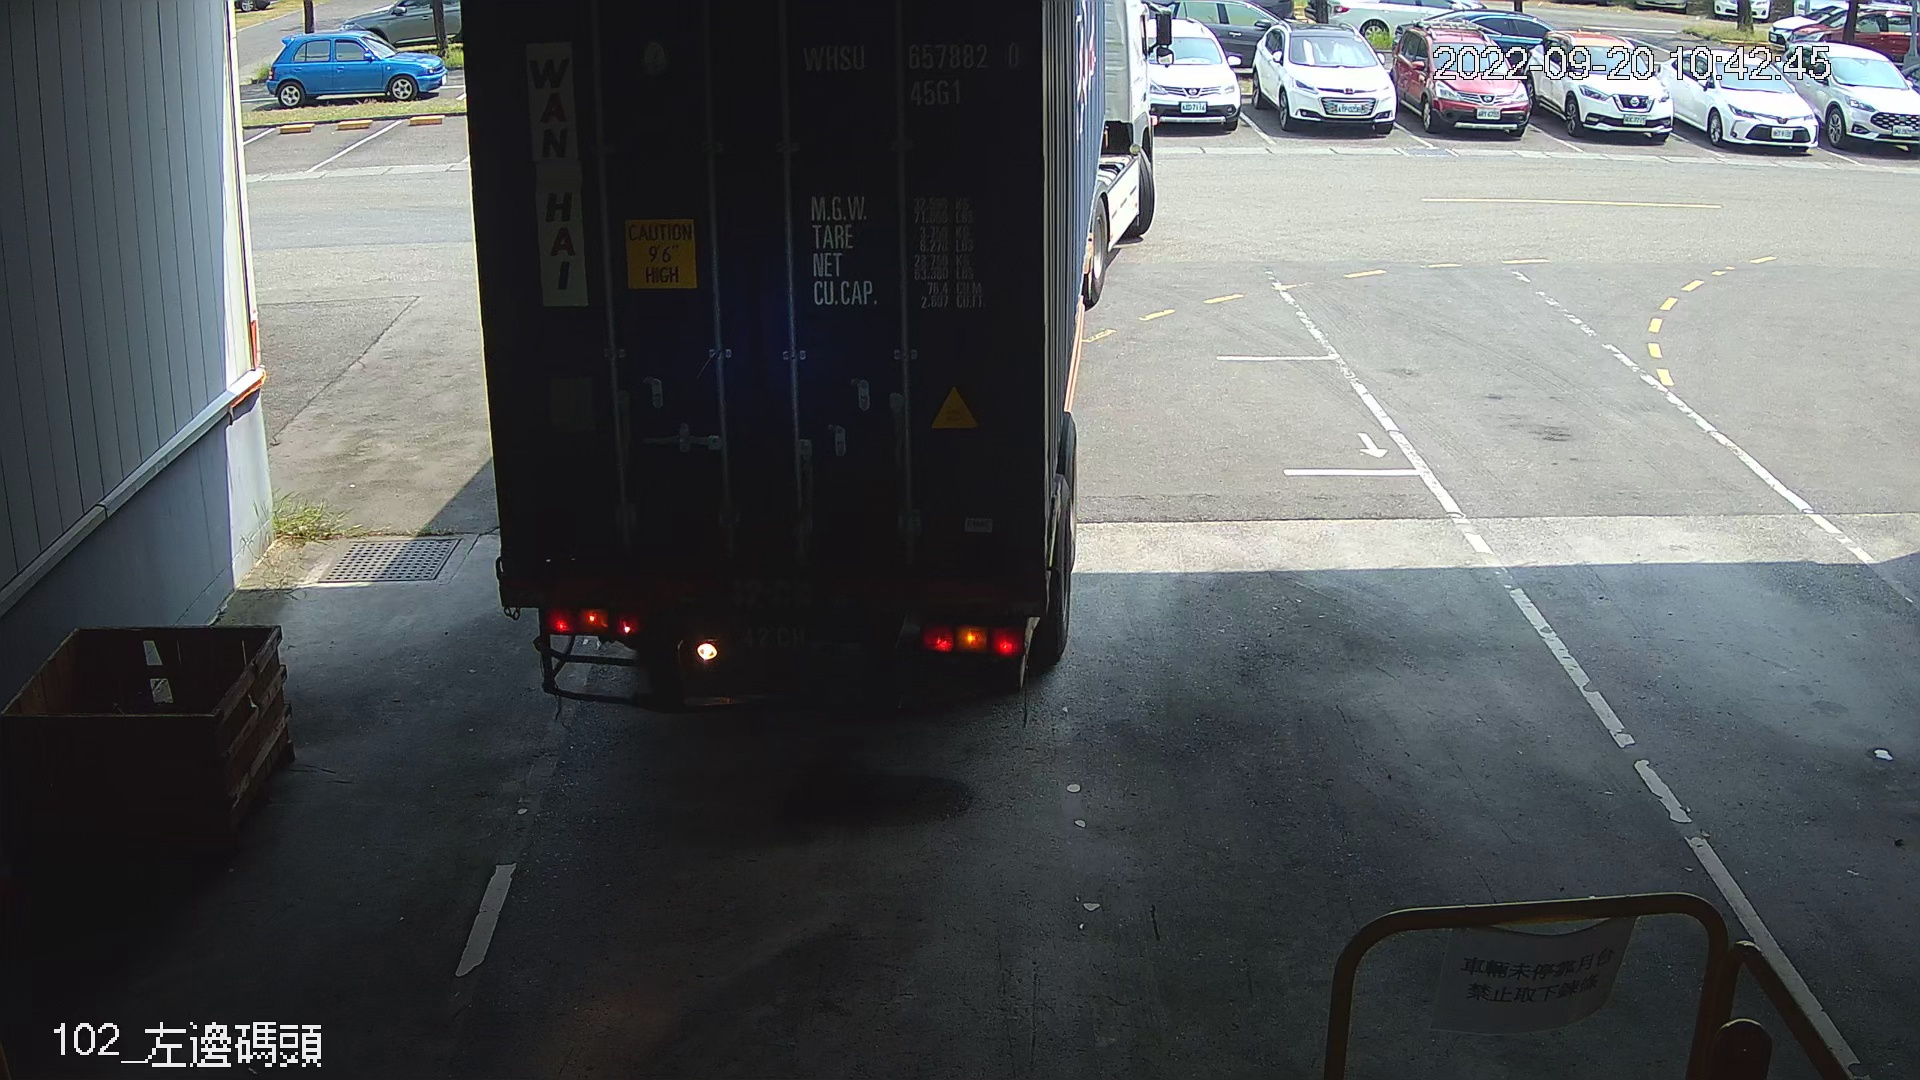container: (794, 33, 1035, 113)
